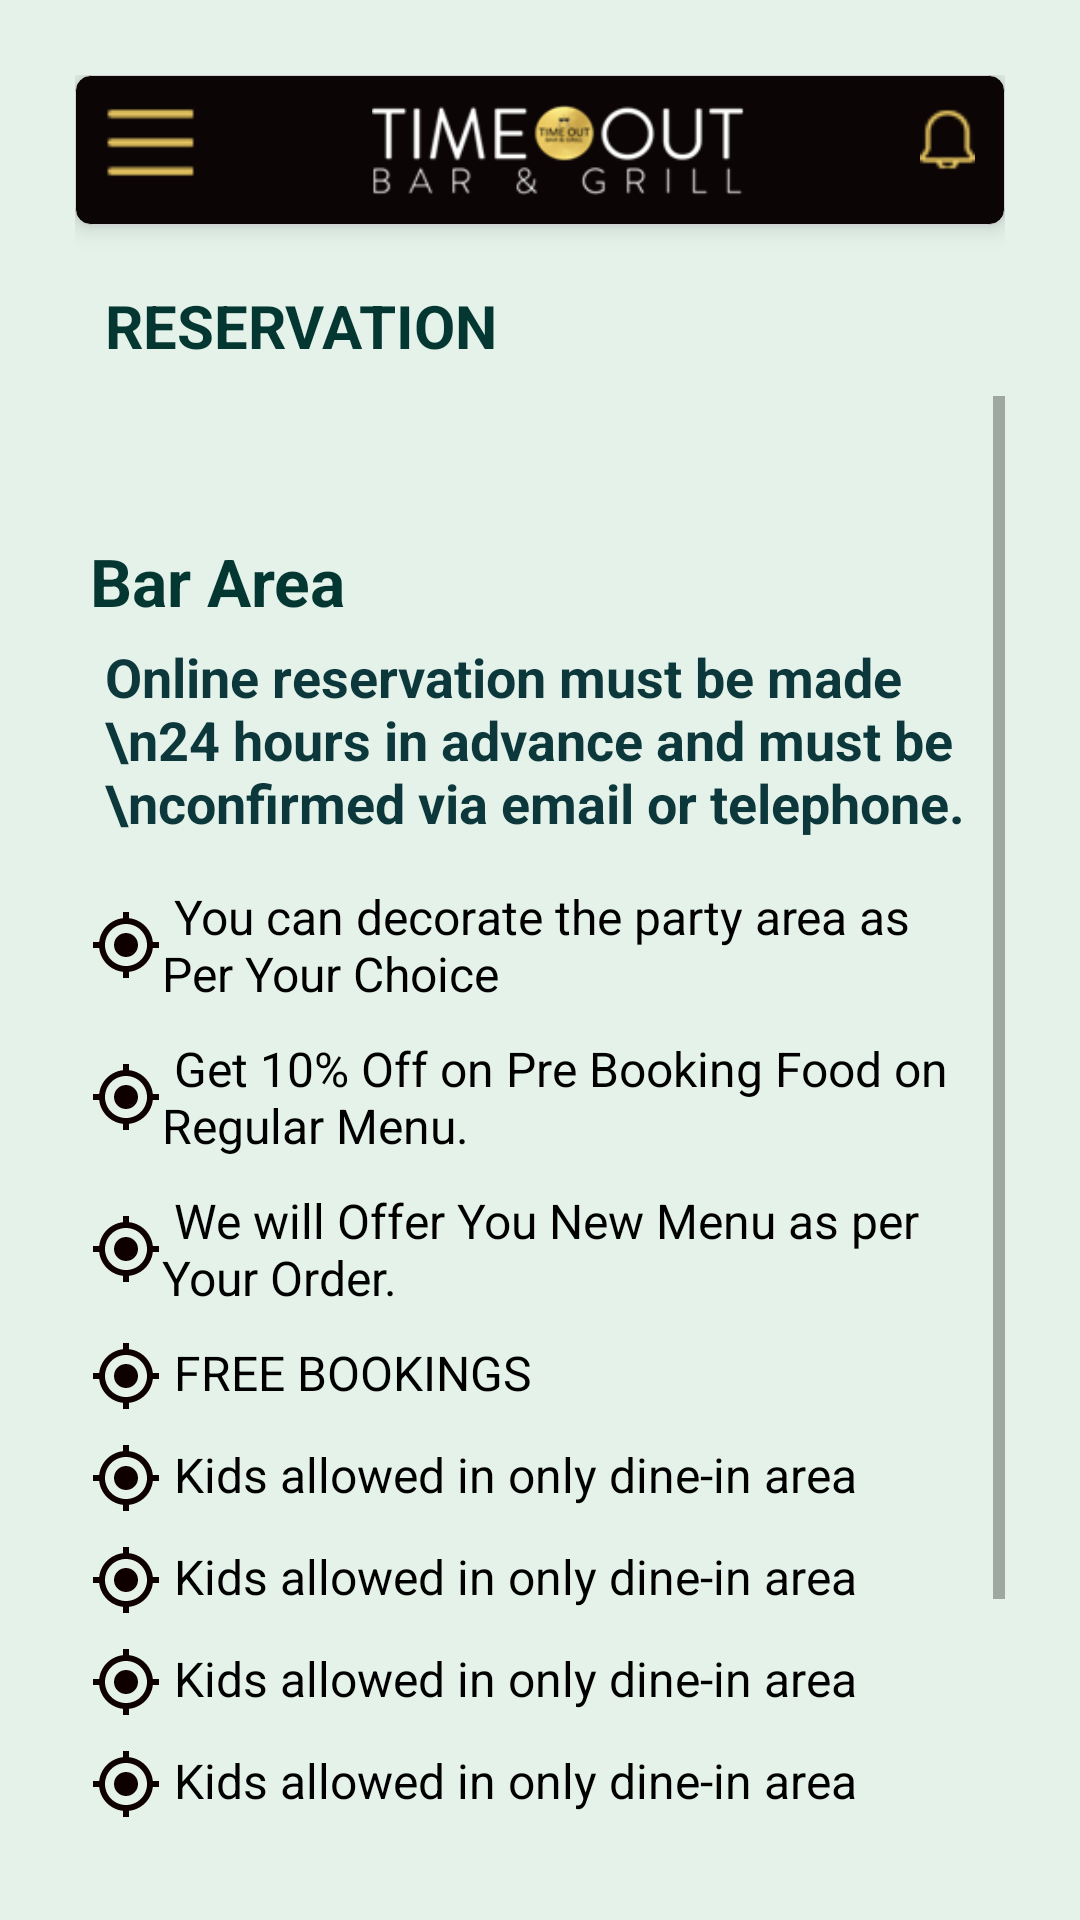

Named icons in this screenshot (1080 x 1920) and their centers, (x,y):
bell: (947,139)
nav: (150,142)
